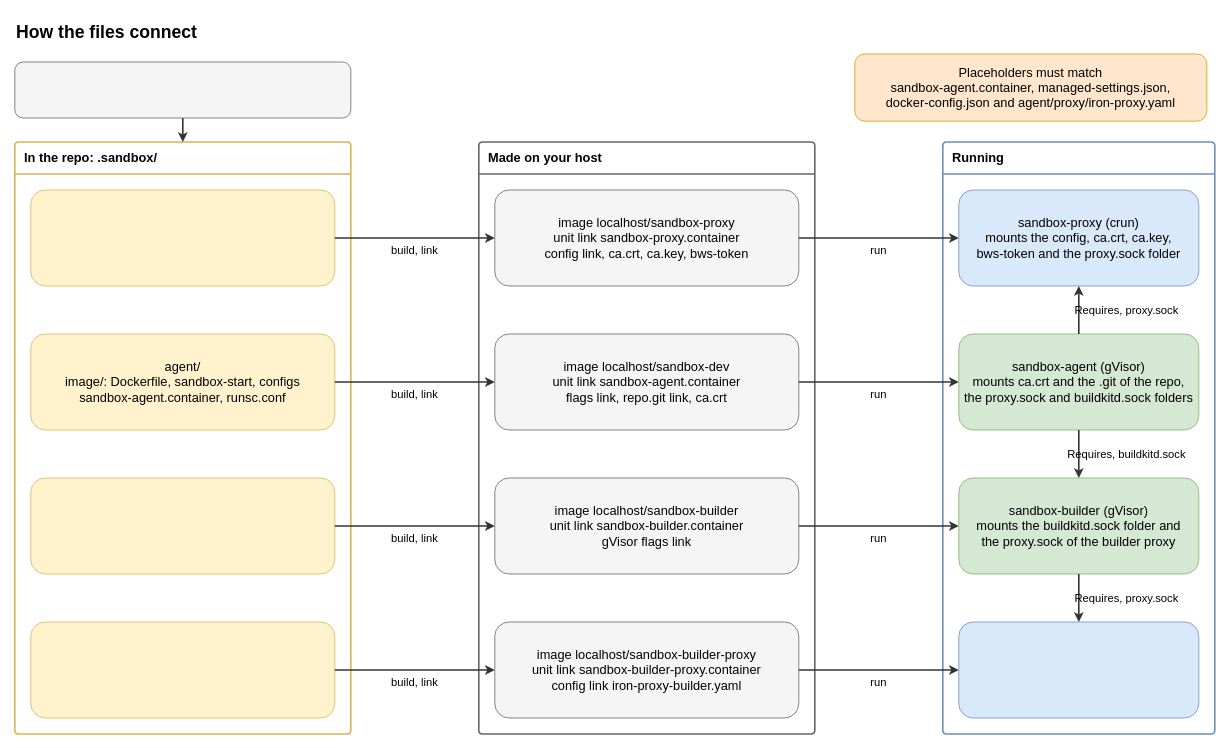
The diagram is 1229 pixels wide and 748 high, and some of its shapes have lost their labels. Here are the shapes that lost their labels. From the top down, the centre of each, then its label:
At point 182,89: "justfile setup and build make the files below. run starts them.".
At point 182,237: "agent/proxy/ Containerfile, proxy.container iron-proxy.yaml".
At point 182,525: "builder/ image/: Containerfile sandbox-builder.container, runsc.conf".
At point 182,669: "builder/proxy/ Containerfile, proxy.container iron-proxy.yaml".
At point 1078,669: "sandbox-builder-proxy (crun) mounts the config and the proxy.sock folder".
